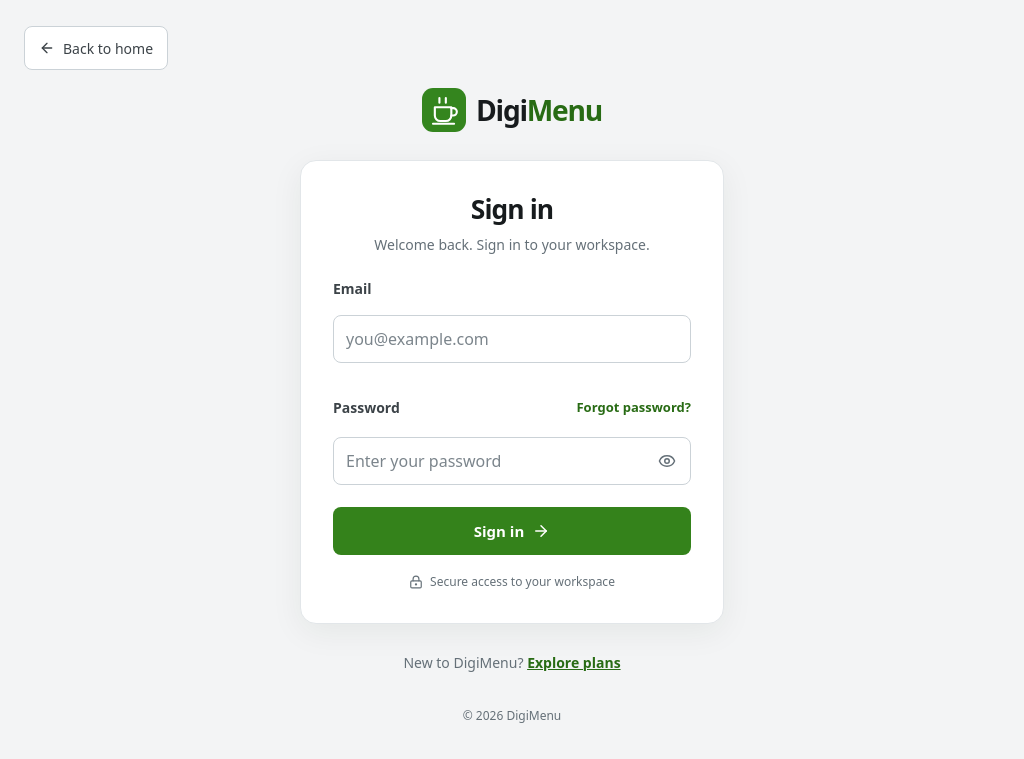
Test case: routing smoke test › superadmin signs in at /superadmin/login and lands on the platform dashboard
expect the heading "Sign in" is shown: met, box [471,191,553,227]
Type "platform-owner@digimenu.app" into the field labelled "Email". click: (512, 339)
box: [333,315,691,363]
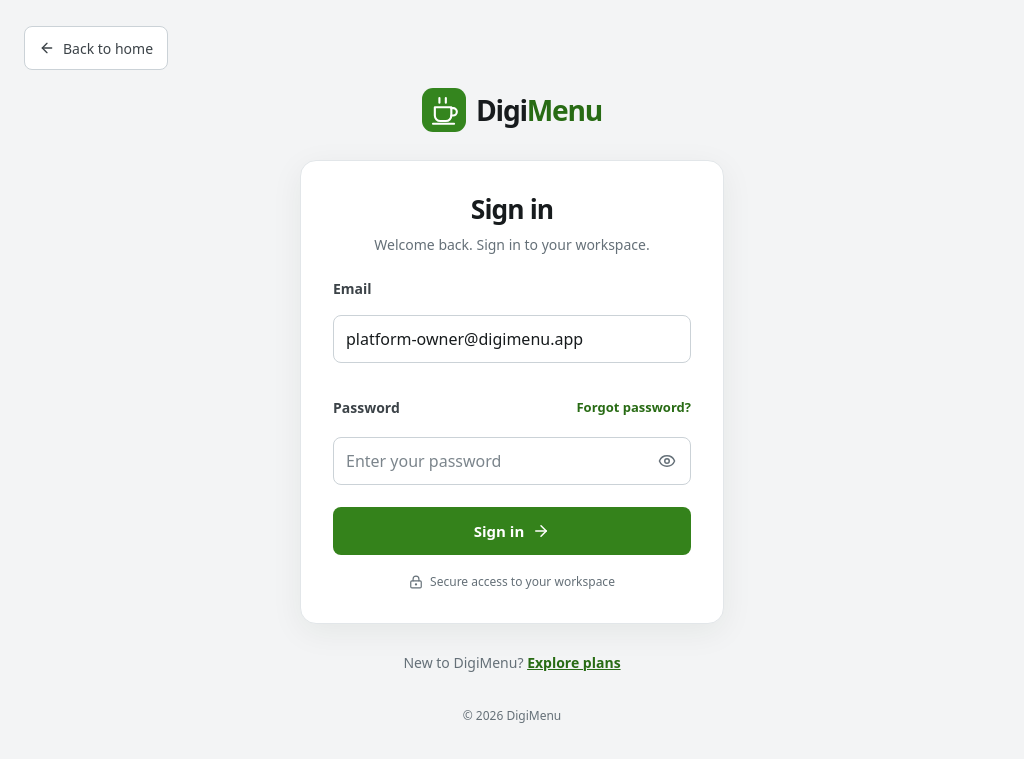
Type "platform-pass" into the password field labelled "Password". click: (512, 461)
box: [333,437,691,485]
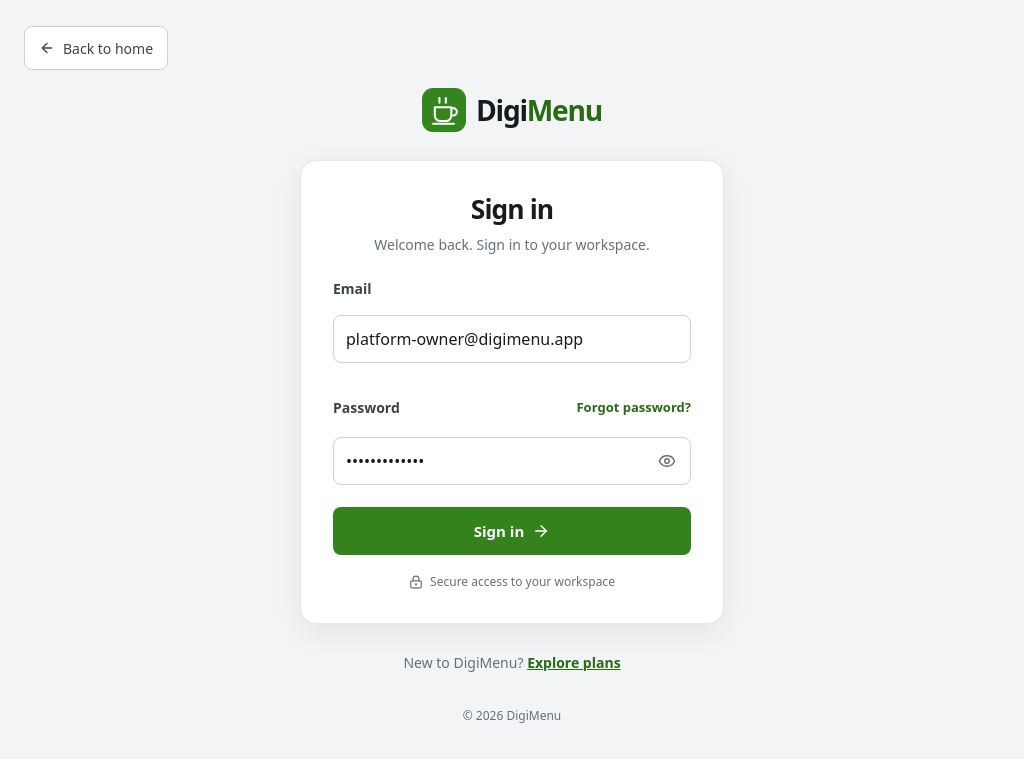
Click the button "Sign in". click: (512, 531)
box: [333,507,691,555]
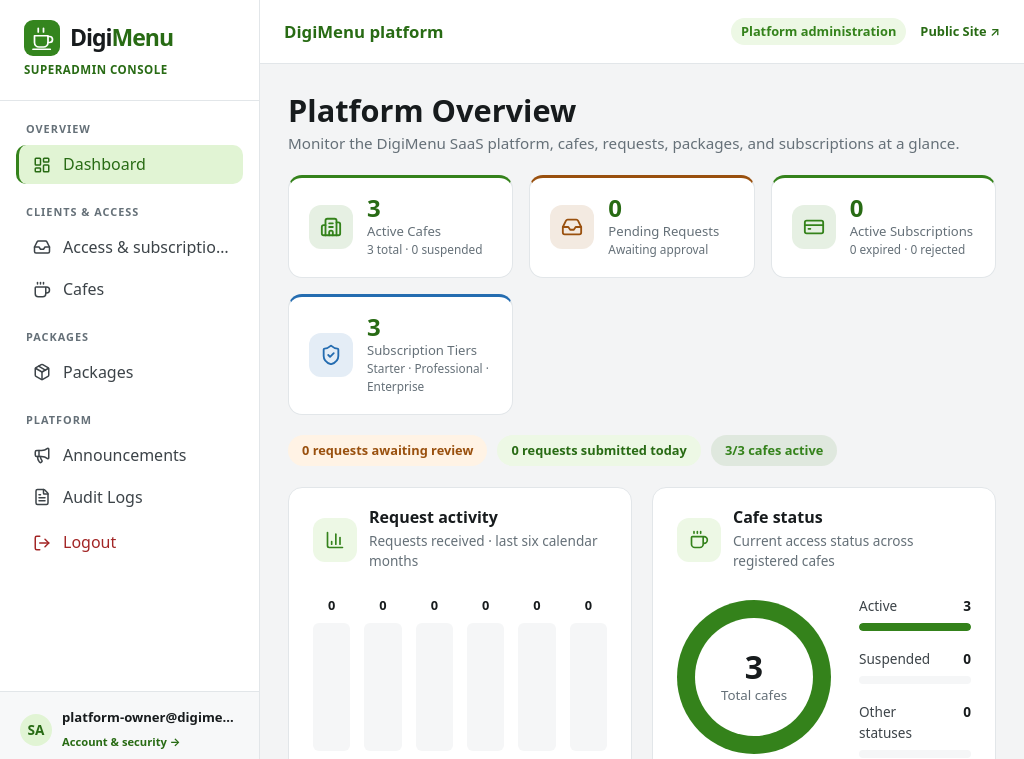
expect the heading "Platform Overview" is shown: met, box [288,89,576,131]
expect the heading "Sign in" is gone: met
